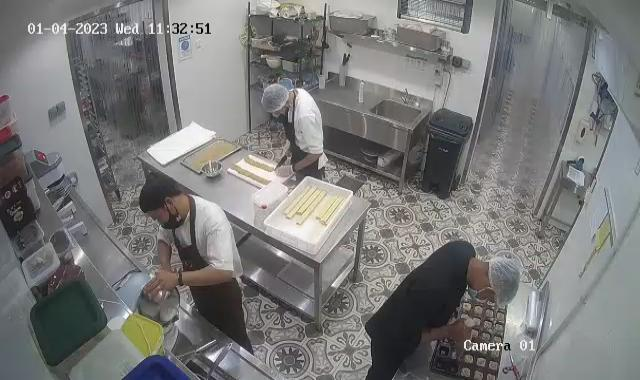hairnet: (483, 257, 519, 305), (259, 80, 291, 115)
no_hairnet: (138, 171, 181, 215)
